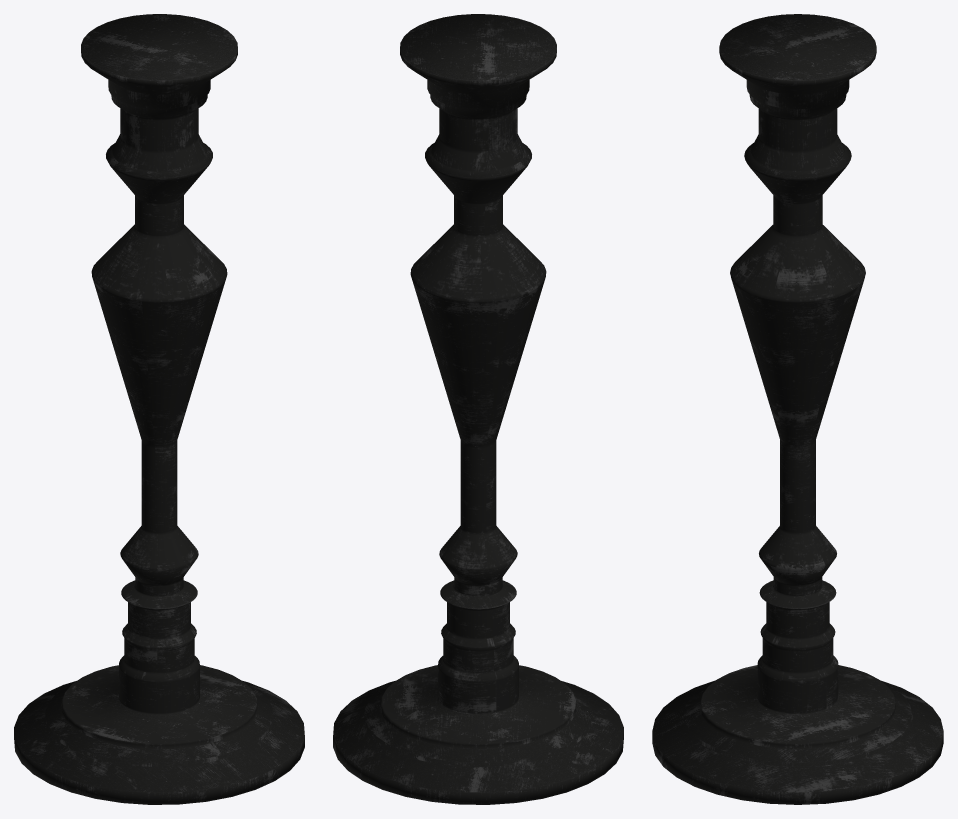
File: CANDLE HOLDER 2.fbx
The picture shows the model from 3 angles, left to right: view 1: azimuth 30°, elevation 25°; view 2: azimuth 150°, elevation 25°; view 3: azimuth 270°, elevation 25°; orthographic projection.
Visible parts, largest first — view 1: CANDLE HOLDER 2; view 2: CANDLE HOLDER 2; view 3: CANDLE HOLDER 2.
Part boxes in pixels (left/top/right/bottom): CANDLE HOLDER 2: left=14, top=14, right=304, bottom=804; CANDLE HOLDER 2: left=333, top=14, right=623, bottom=804; CANDLE HOLDER 2: left=652, top=14, right=943, bottom=804.
Bounding box in the file's own units: 0.2867 × 0.2867 × 0.756.
